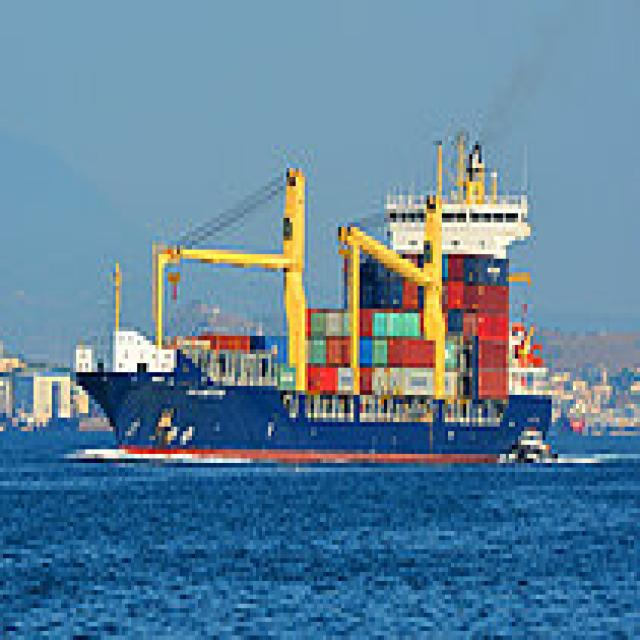Cargo: (67, 118, 555, 458)
